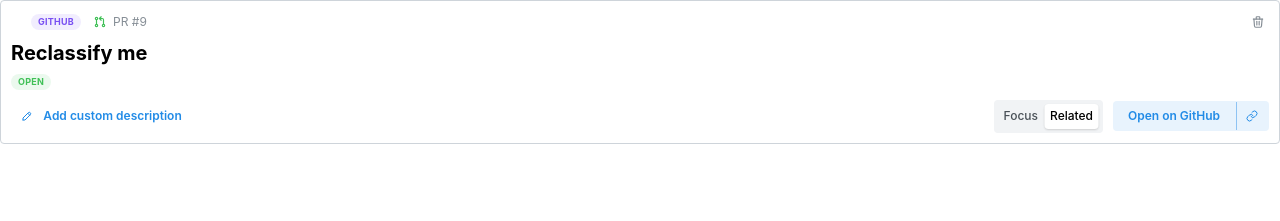
ResourceCard focus/related control (phase E) › surfaces a failure instead of silently reverting
This screenshot has width=1280, height=221.
Click the radio button labelled "Focus".
click(1021, 116)  # box [1004,108,1038,123]
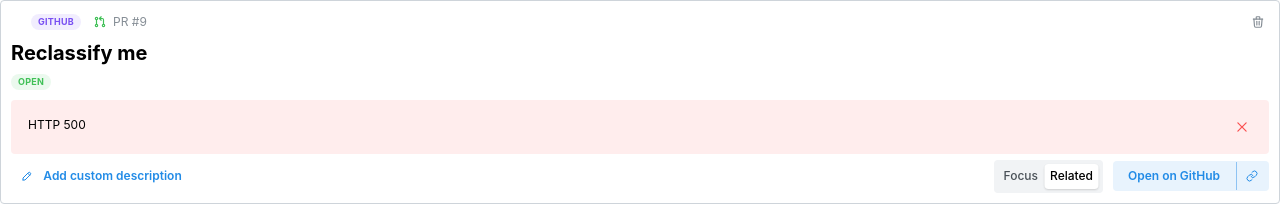
Result: the text "HTTP 500" is shown at [28,117,86,132]
